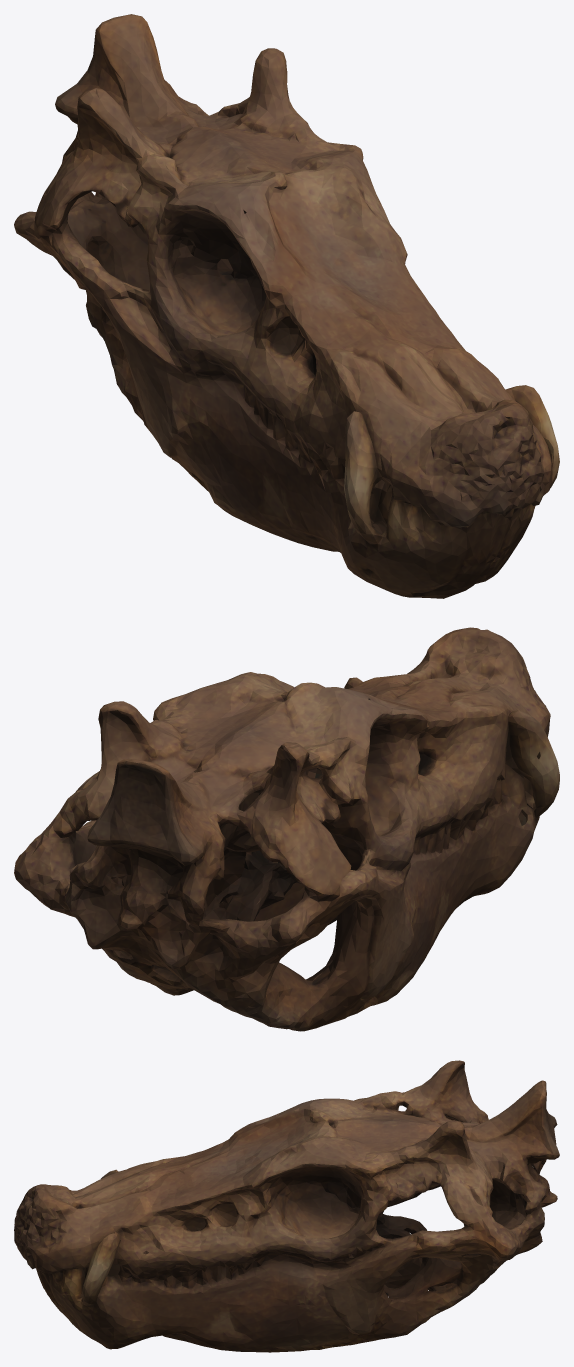
3 views of the same model, one above another, from view 1: azimuth 30°, elevation 25°; view 2: azimuth 150°, elevation 25°; view 3: azimuth 270°, elevation 25° (orthographic). The views are drawn at different scales.
Visible parts, largest first — view 1: world; view 2: world; view 3: world.
Boxes of the visible parts, x1,y1,x2,y2 form: world: (14,14,559,598); world: (14,627,559,1031); world: (14,1060,559,1352).
Bounding box in the file's own units: 0.261 × 0.2976 × 0.6.
1 material, 1 textured.
